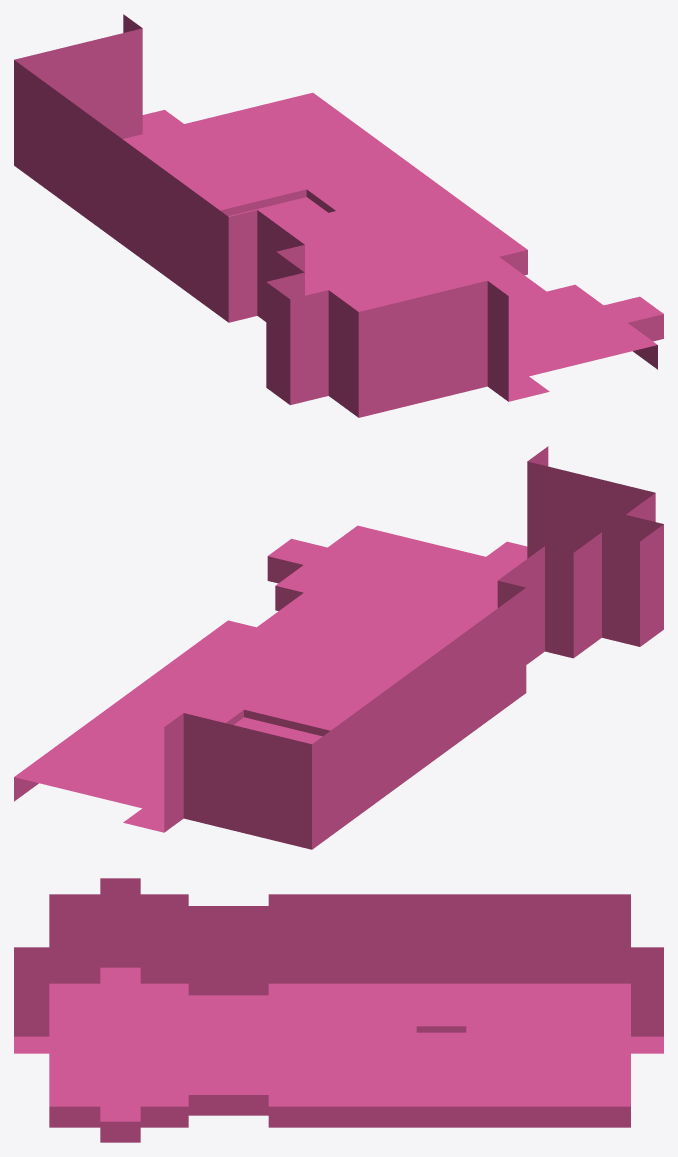
The picture shows the model from 3 angles, top to bottom: view 1: azimuth 30°, elevation 25°; view 2: azimuth 150°, elevation 25°; view 3: azimuth 270°, elevation 25°; orthographic projection. The views are drawn at different scales.
Visible parts, largest first — view 1: 5; view 2: 5; view 3: 5.
Boxes of the visible parts, x1,y1,x2,y2 form: 5: (14,14,663,417); 5: (14,446,663,849); 5: (14,878,663,1142).
Size of the model in its own units: 794 by 265 by 1417.
